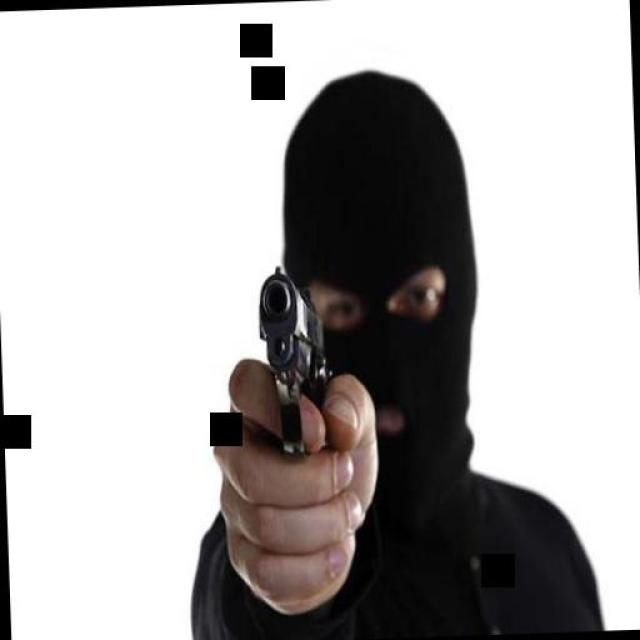gun: (252, 264, 336, 456)
